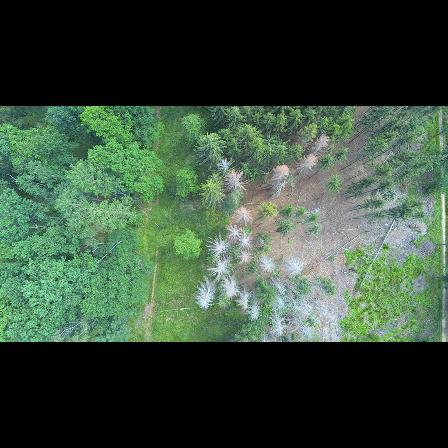Dead: (306, 292, 336, 326), (286, 305, 314, 340), (280, 283, 313, 311), (195, 281, 218, 310), (297, 151, 322, 174), (206, 234, 230, 257), (209, 259, 234, 280), (284, 259, 307, 280), (228, 168, 248, 192), (311, 137, 336, 155), (272, 162, 292, 184), (269, 306, 284, 334), (256, 251, 276, 271), (236, 248, 257, 267), (217, 157, 234, 178), (220, 274, 234, 299), (269, 276, 284, 298), (251, 294, 262, 322), (237, 283, 248, 309), (237, 231, 254, 246), (227, 224, 242, 240), (274, 294, 287, 310)
